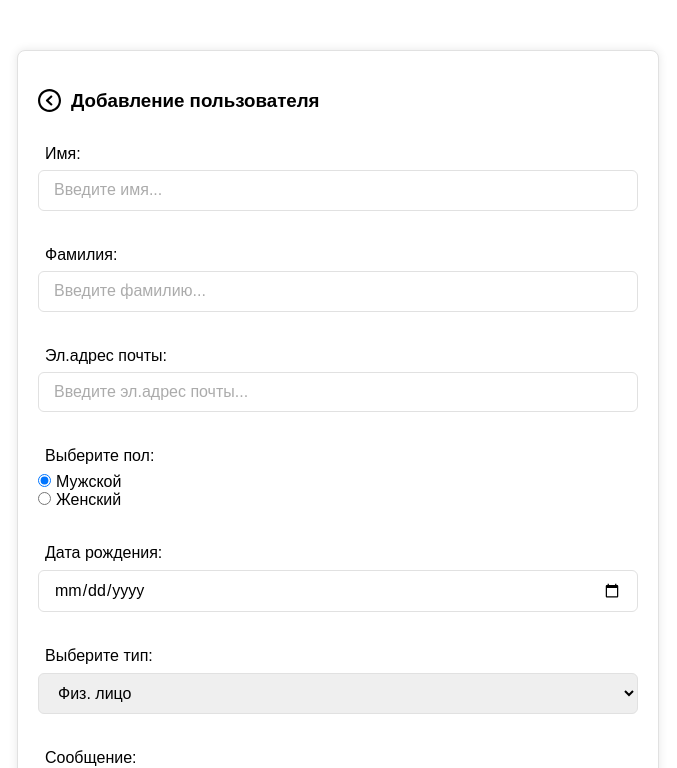
Scenario: Проверка компонента UserForm › Проверка кнопки на атрибут disabled
The image size is (677, 768).
Type "Тест" into the field with placeholder "Введите имя..." at (338, 190), box x1=38 y1=170 x2=638 y2=211
(page scrolled)
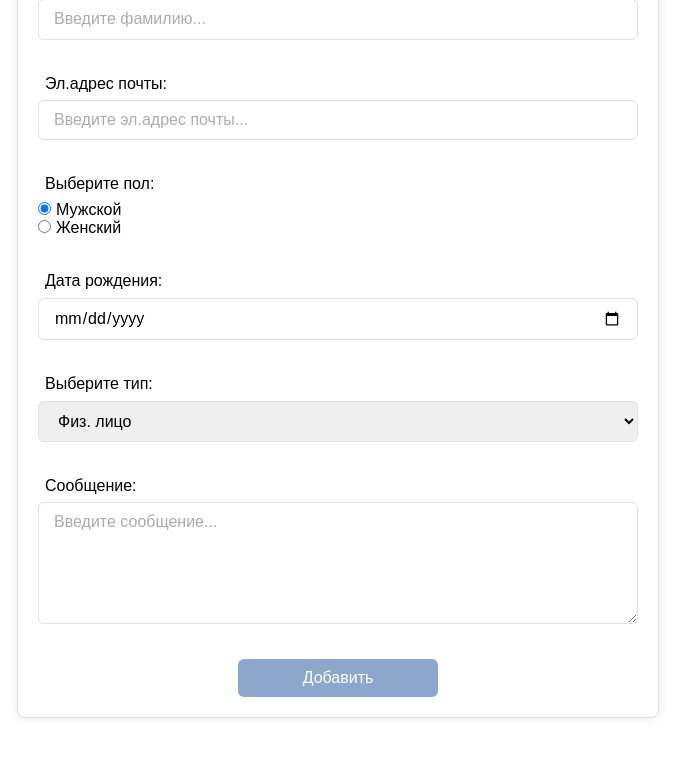
Result: the button "Добавить" is enabled at x1=238 y1=659 x2=438 y2=697
